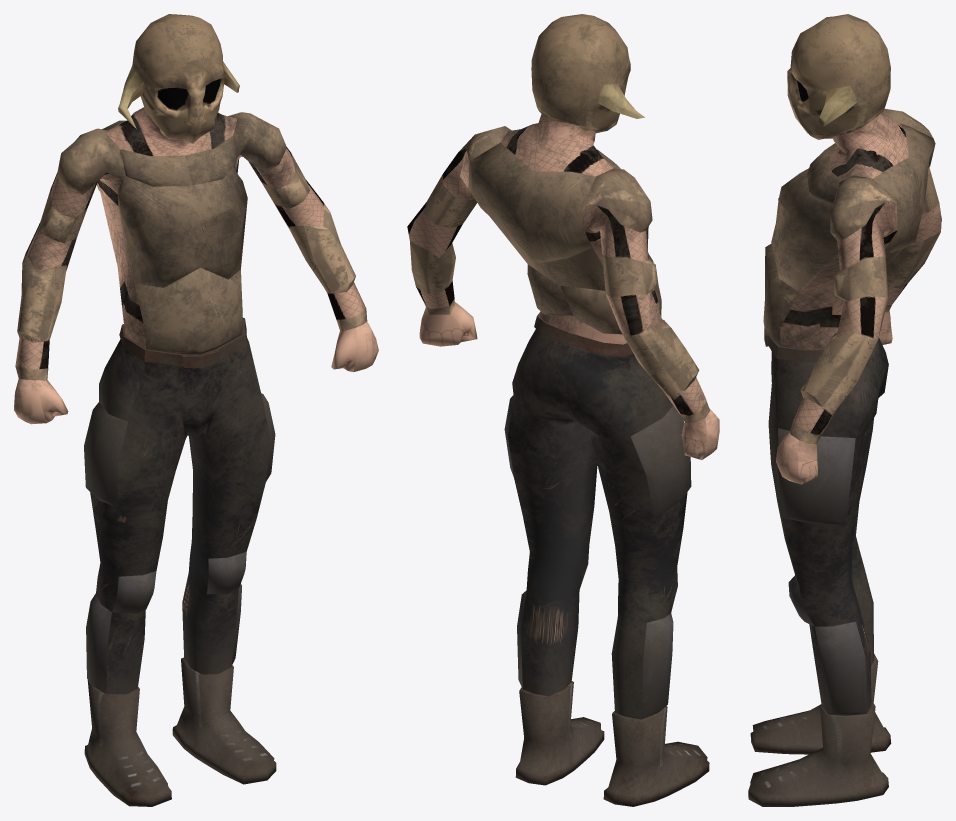
The model's file is Anim_recibirdanyo_npc1.0014.obj.
3 renders of one model, left to right at view 1: azimuth 30°, elevation 25°; view 2: azimuth 150°, elevation 25°; view 3: azimuth 270°, elevation 25°, orthographic. The views are drawn at different scales.
Parts seen in each view (by area): view 1: NPC2; view 2: NPC2; view 3: NPC2.
Part boxes in pixels (x1,y1,x2,y2): NPC2: (14,14,378,806); NPC2: (407,14,719,806); NPC2: (748,14,941,806).
Size of the model in its own units: 4.38 by 9.56 by 2.21.
